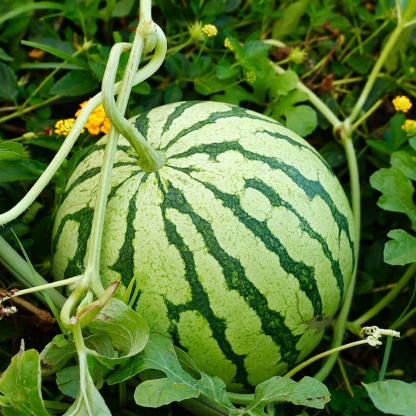duahau: (49, 91, 355, 371)
